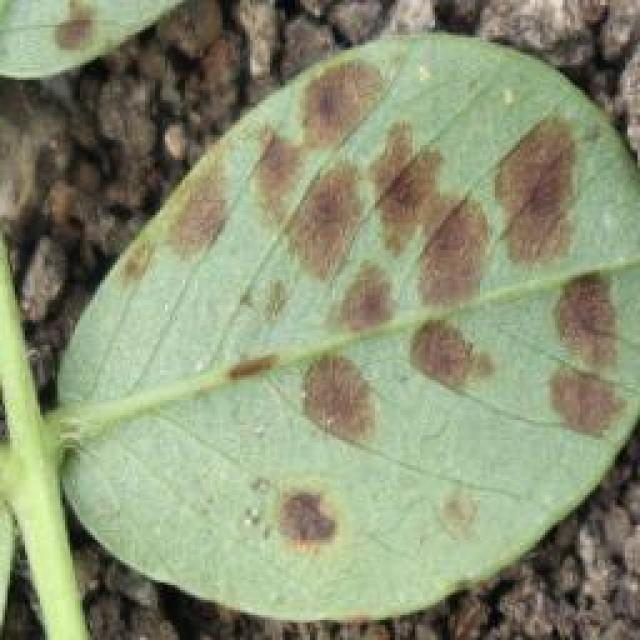Whitefly: (15, 0, 630, 570)
